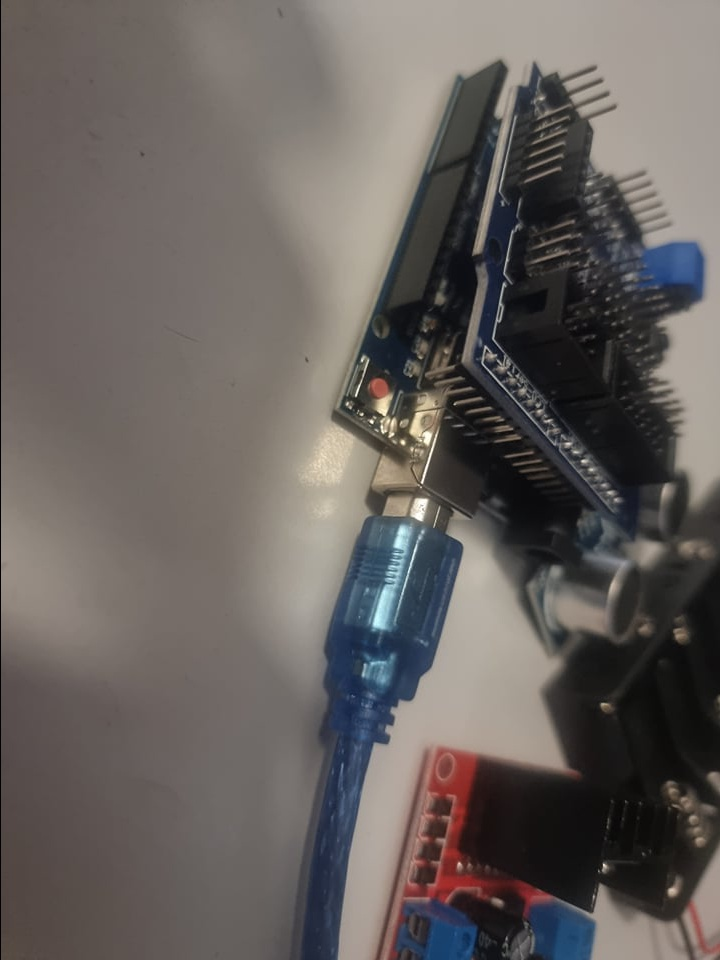5V EXPANSION: (500, 61, 704, 507)
BATTERY BOX: (546, 553, 719, 887)
MOTOR: (391, 741, 680, 960)
SENSOR: (502, 512, 685, 651)
UNO R3: (329, 83, 504, 525)
